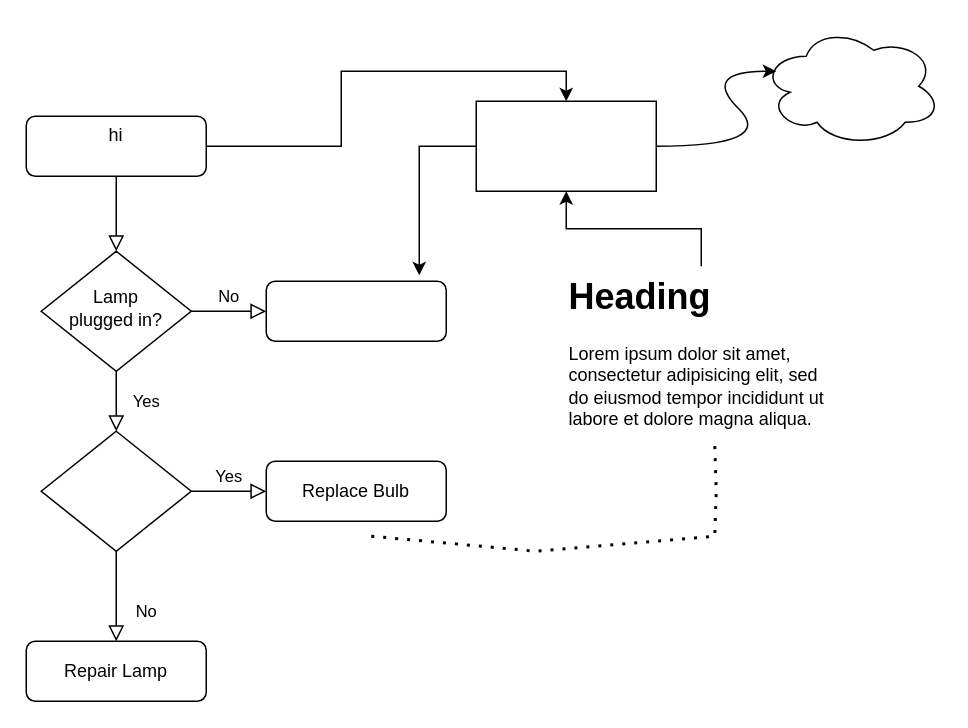
Some shapes in this 968 by 728 pixel diagram are drawn without their labels. Here are the shapes that lost their labels. From the top down, the box of each, then its label:
(265, 280, 446, 341): Plug in lamp
(40, 430, 191, 551): Bulb burned out?
